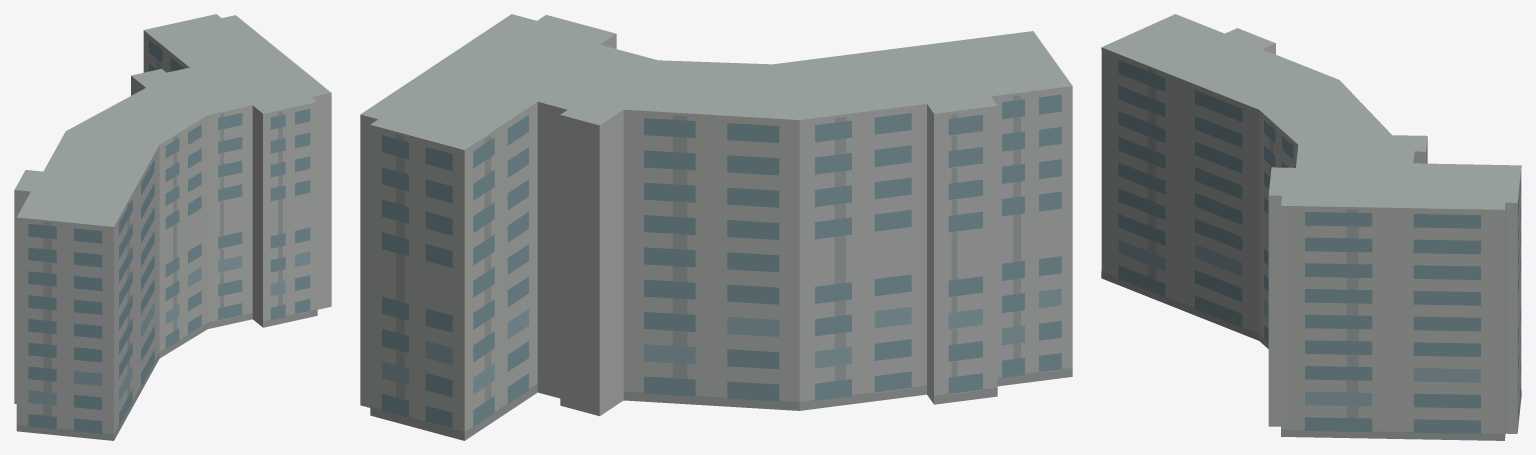
Rendered from residential-0dd1128d-7a0a-4477-b039-343e10eb6189.glb.
3 views of the same model, side by side, from view 1: azimuth 30°, elevation 25°; view 2: azimuth 150°, elevation 25°; view 3: azimuth 270°, elevation 25° (orthographic). The views are drawn at different scales.
Parts seen in each view (by area): view 1: residential-0dd1128d-7a0a-4477-b039-343e10eb6189.tmp; view 2: residential-0dd1128d-7a0a-4477-b039-343e10eb6189.tmp; view 3: residential-0dd1128d-7a0a-4477-b039-343e10eb6189.tmp.
Part boxes in pixels (x1,y1,x2,y2): residential-0dd1128d-7a0a-4477-b039-343e10eb6189.tmp: (14, 14, 331, 440); residential-0dd1128d-7a0a-4477-b039-343e10eb6189.tmp: (360, 14, 1072, 440); residential-0dd1128d-7a0a-4477-b039-343e10eb6189.tmp: (1101, 14, 1521, 440).
Bounding box in the file's own units: 47.27 × 26 × 42.83.
